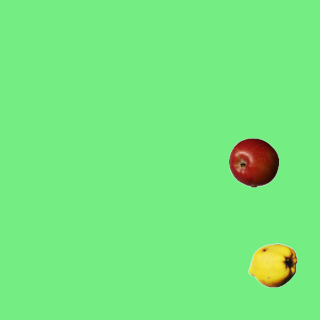Apple Braeburn: (228, 137, 278, 187)
Quince: (247, 240, 297, 290)
